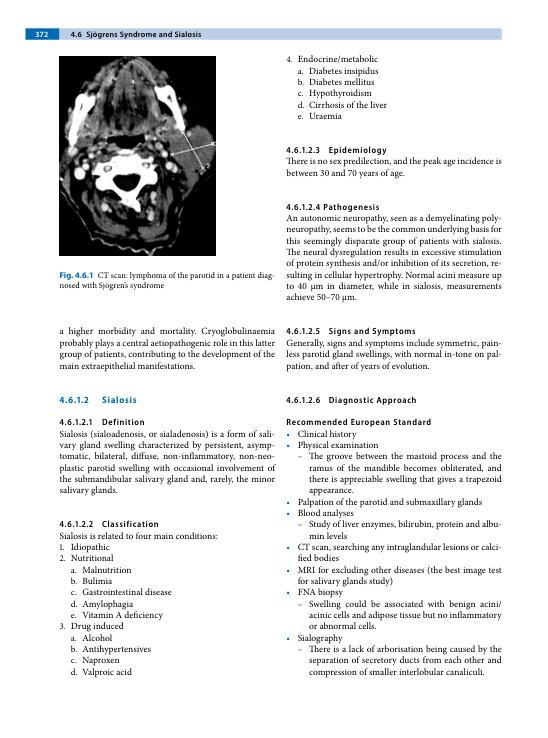caption: (59, 271, 275, 291)
header: (85, 30, 202, 40)
image: (59, 56, 216, 256)
list: (283, 428, 503, 680), (58, 542, 173, 679), (284, 53, 389, 122)
sub-section-heading: (285, 417, 432, 427), (328, 395, 418, 406), (328, 326, 416, 337), (328, 145, 388, 156), (322, 202, 380, 213), (101, 519, 159, 529), (101, 417, 145, 427), (100, 395, 137, 405)
text: (285, 213, 503, 303), (58, 428, 277, 497), (57, 325, 276, 373), (284, 337, 502, 372), (286, 156, 503, 179), (59, 531, 219, 541)
